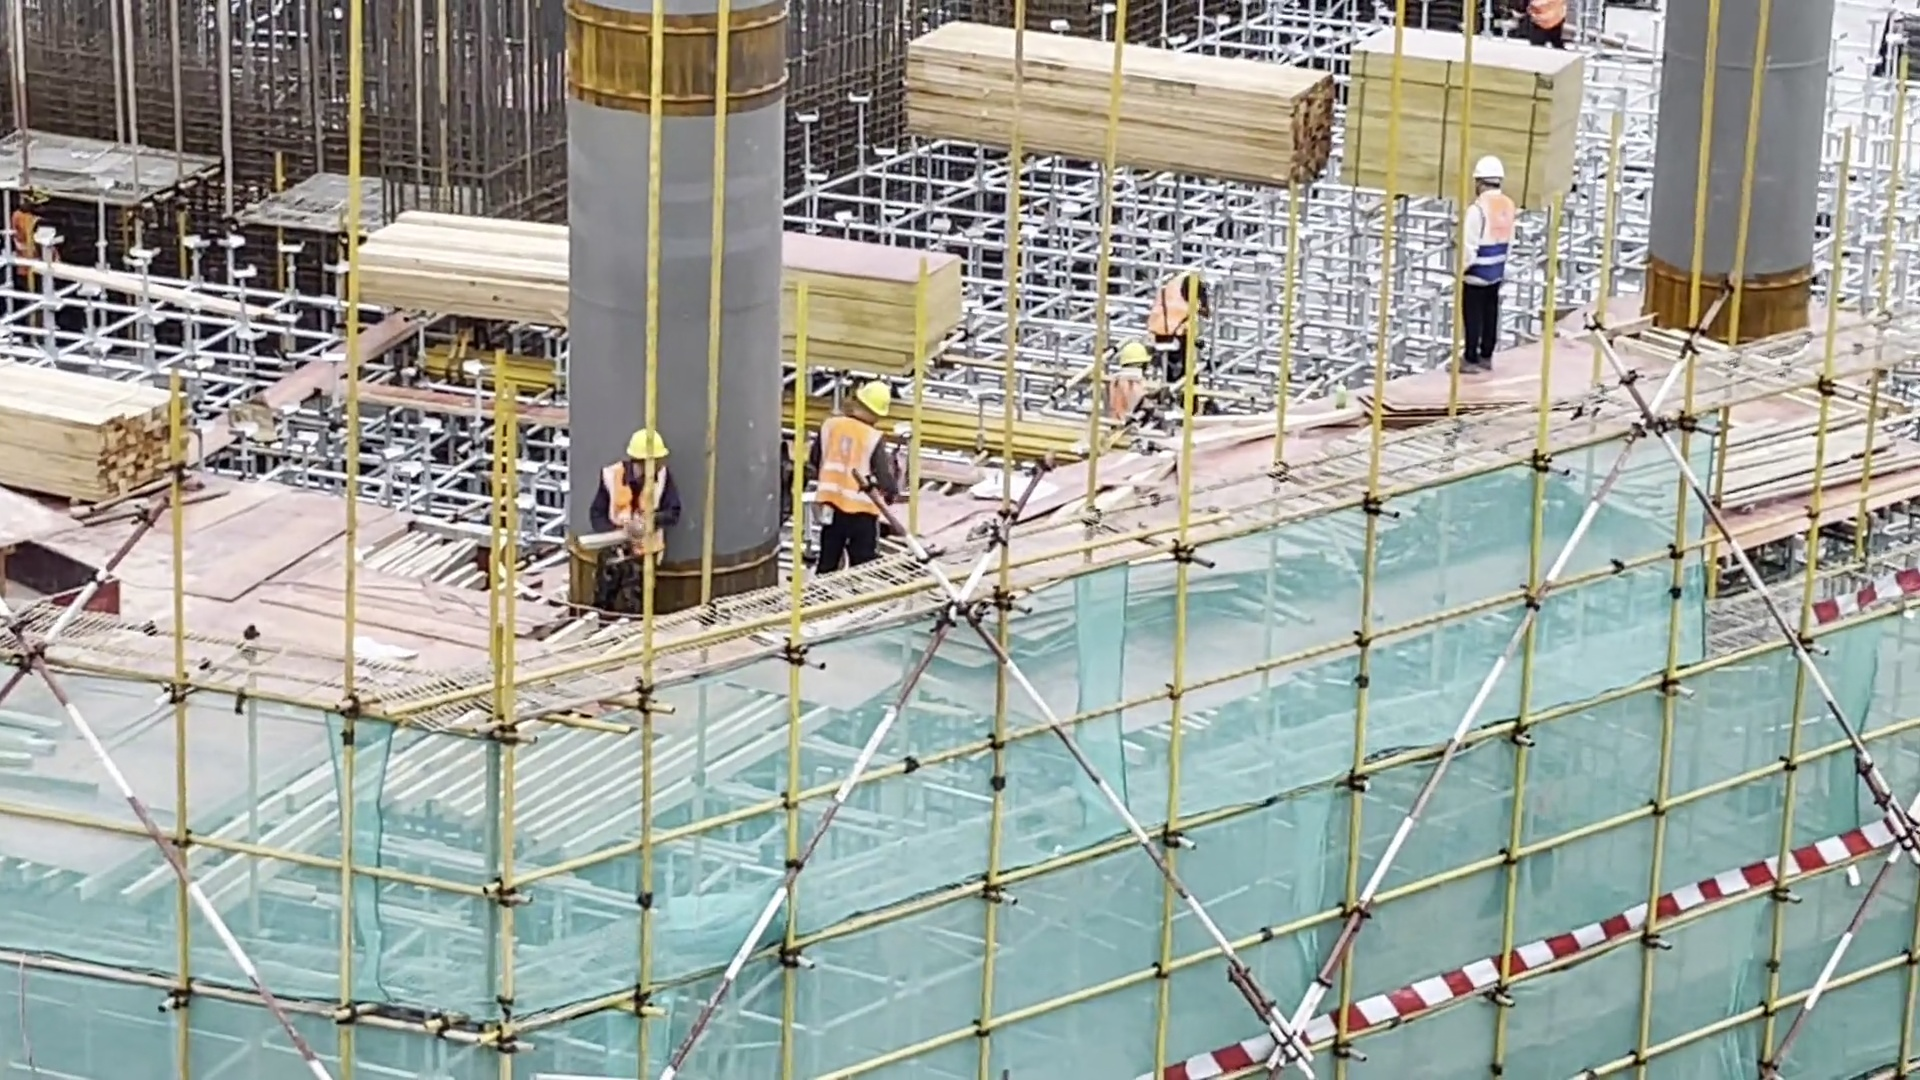helmet: (844, 371, 894, 421), (1462, 157, 1526, 192), (1109, 330, 1153, 377), (618, 428, 669, 462)
person: (580, 423, 678, 618), (805, 378, 897, 566), (1458, 153, 1518, 367), (1152, 259, 1215, 348), (1098, 341, 1148, 425)
vest: (821, 422, 883, 509), (601, 466, 669, 537), (1469, 194, 1510, 279), (1163, 282, 1211, 342), (1104, 379, 1140, 417), (12, 206, 36, 249)
